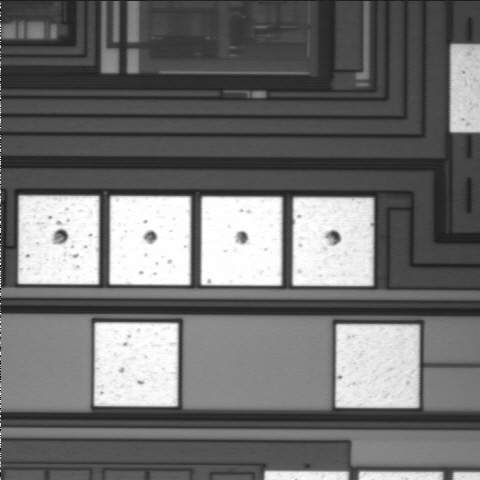pad: (109, 196, 191, 285), (292, 197, 374, 286), (201, 196, 282, 286), (18, 196, 99, 284), (94, 323, 178, 406), (336, 324, 419, 408)
